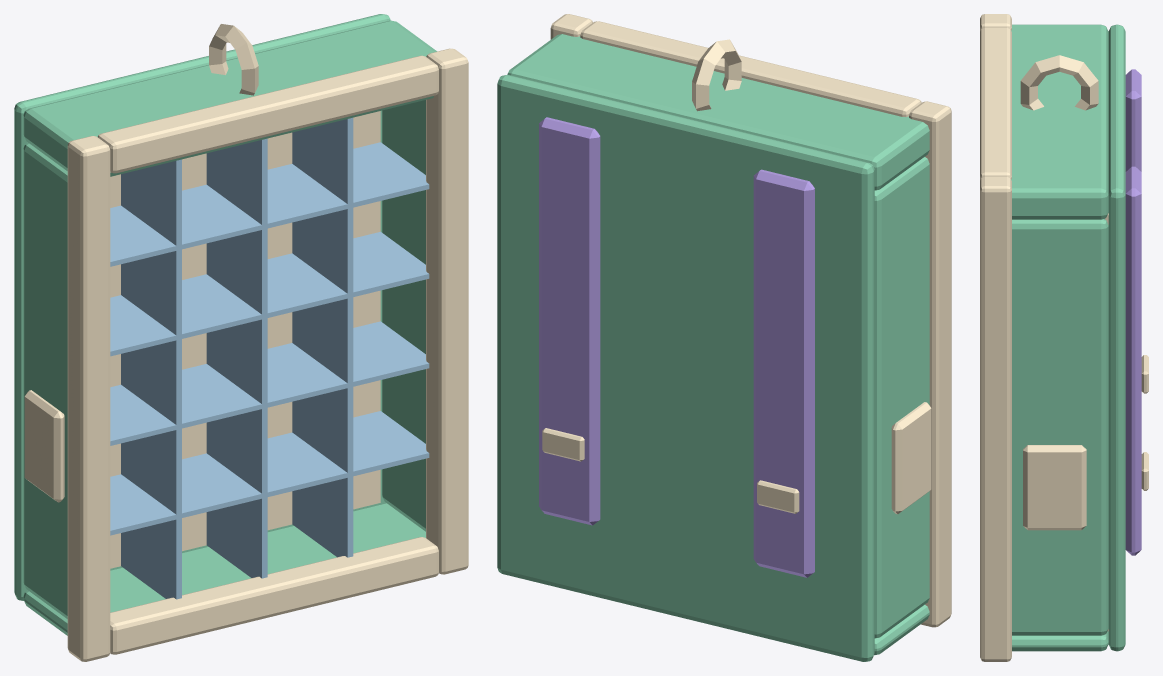
Rendered from backpack_base.glb.
The picture shows the model from 3 angles, left to right: view 1: azimuth 30°, elevation 25°; view 2: azimuth 150°, elevation 25°; view 3: azimuth 270°, elevation 25°; orthographic projection. The views are drawn at different scales.
Parts seen in each view (by area): view 1: BackpackBase; view 2: BackpackBase; view 3: BackpackBase.
Part boxes in pixels (<box>): BackpackBase: <box>14,14,468,661</box>; BackpackBase: <box>497,14,951,661</box>; BackpackBase: <box>980,14,1148,661</box>.
Bounding box in the file's own units: 0.346 × 0.4695 × 0.138.
